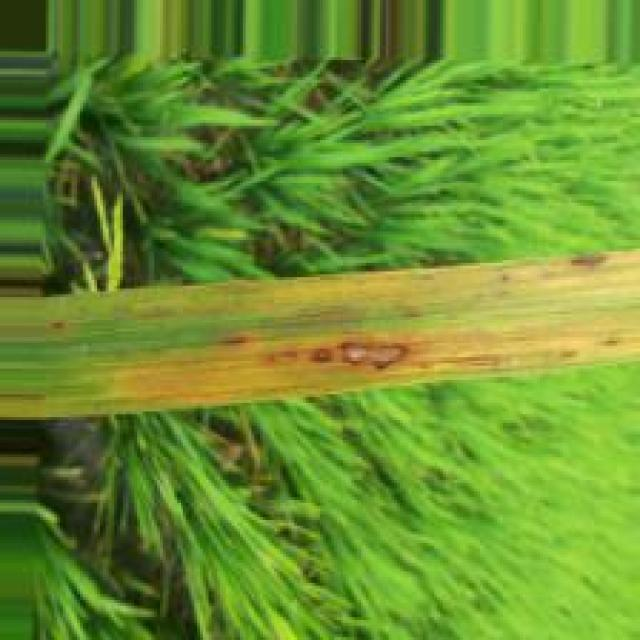Leaf_Blast: (309, 335, 419, 372), (564, 252, 614, 272), (218, 328, 261, 348)
